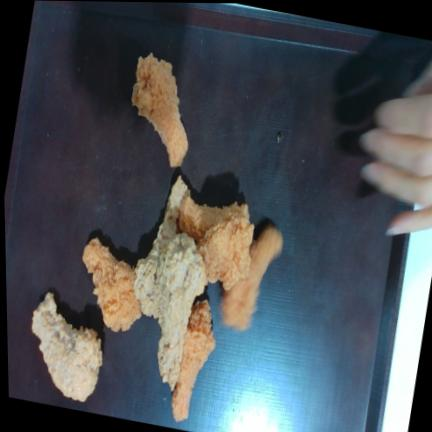chicken: (154, 234, 206, 386), (32, 293, 102, 401), (179, 190, 254, 289), (133, 53, 188, 167), (83, 238, 142, 332), (172, 300, 216, 422)
